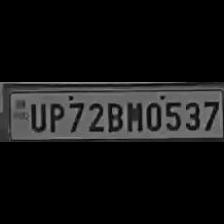0: (143, 98, 161, 132)
2: (84, 99, 104, 133)
3: (182, 99, 200, 131)
5: (162, 97, 182, 130)
7: (64, 99, 84, 133), (200, 97, 220, 130)
B: (104, 98, 124, 132)
M: (124, 99, 142, 133)
P: (46, 100, 64, 132)
U: (26, 100, 46, 132)
